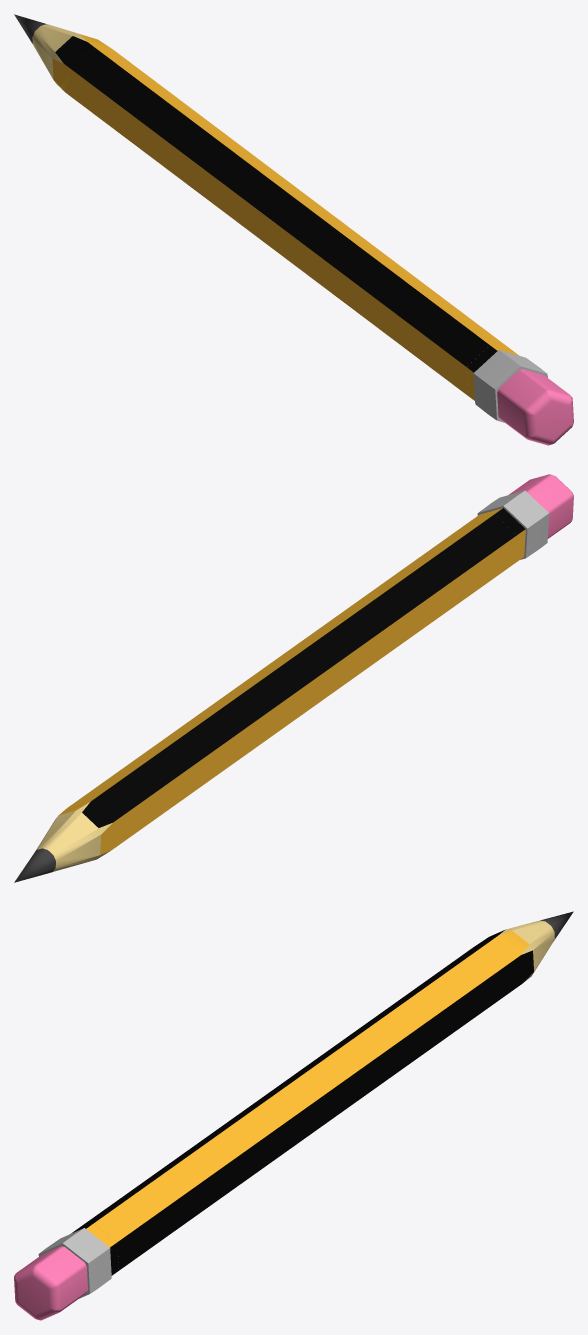
File: Pencil03.fbx
The picture shows the model from 3 angles, top to bottom: view 1: azimuth 30°, elevation 25°; view 2: azimuth 150°, elevation 25°; view 3: azimuth 330°, elevation 25°; orthographic projection. The views are drawn at different scales.
Parts seen in each view (by area): view 1: PencilShaft, PencilEraser, PencilTip_01, PencilTip_04; view 2: PencilShaft, PencilEraser, PencilTip_01, PencilTip_04; view 3: PencilShaft, PencilEraser, PencilTip_01, PencilTip_04.
Boxes of the visible parts, left/top/right/bottom form: PencilShaft: left=73, top=49, right=514, bottom=395; PencilEraser: left=466, top=345, right=573, bottom=445; PencilTip_01: left=14, top=14, right=97, bottom=90; PencilTip_04: left=60, top=34, right=121, bottom=99; PencilShaft: left=77, top=514, right=516, bottom=842; PencilEraser: left=471, top=474, right=573, bottom=562; PencilTip_01: left=14, top=801, right=121, bottom=882; PencilTip_04: left=59, top=795, right=122, bottom=851; PencilShaft: left=72, top=943, right=512, bottom=1270; PencilEraser: left=14, top=1223, right=118, bottom=1320; PencilTip_01: left=479, top=911, right=573, bottom=985; PencilTip_04: left=466, top=931, right=528, bottom=989.
Bounding box in the file's own units: 0.0228 × 0.0225 × 0.3527.
